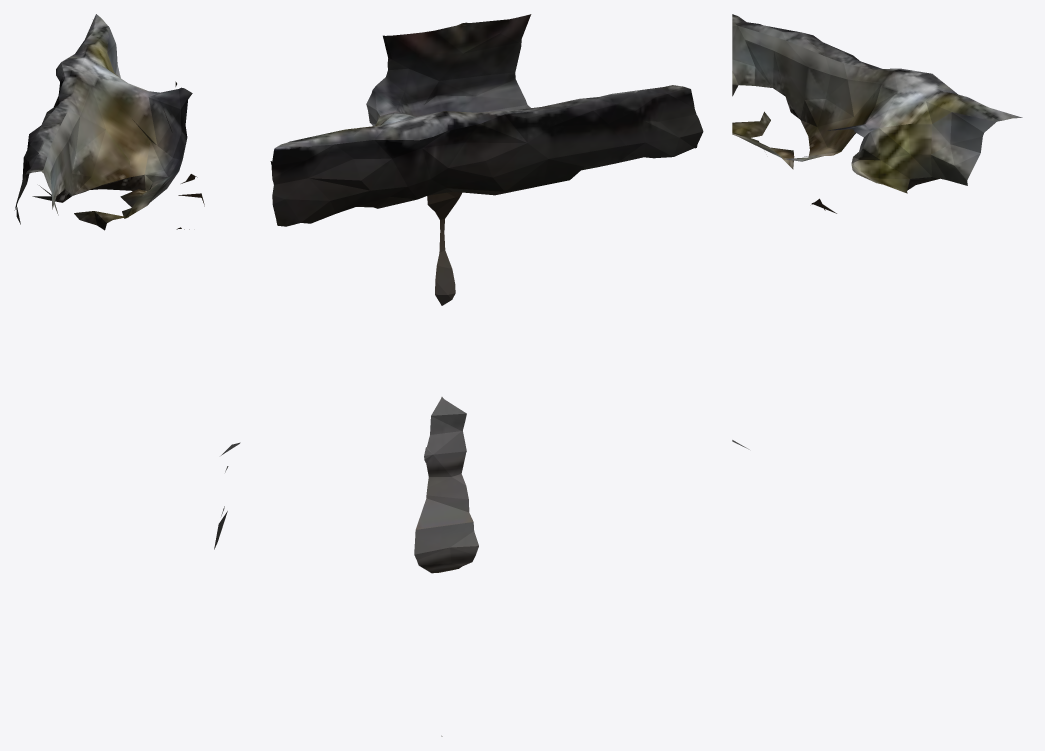
3 renders of one model, left to right at view 1: azimuth 30°, elevation 25°; view 2: azimuth 150°, elevation 25°; view 3: azimuth 270°, elevation 25°, orthographic. The views are drawn at different scales.
Bounding box in the file's own units: 0.3079 × 0.8373 × 0.3494.
1 material, 1 textured.
